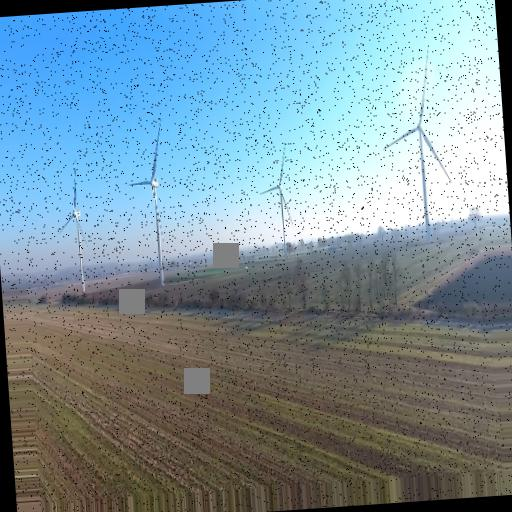wind turbine: (383, 51, 452, 227), (128, 126, 169, 283), (260, 153, 303, 253), (57, 179, 93, 290)
